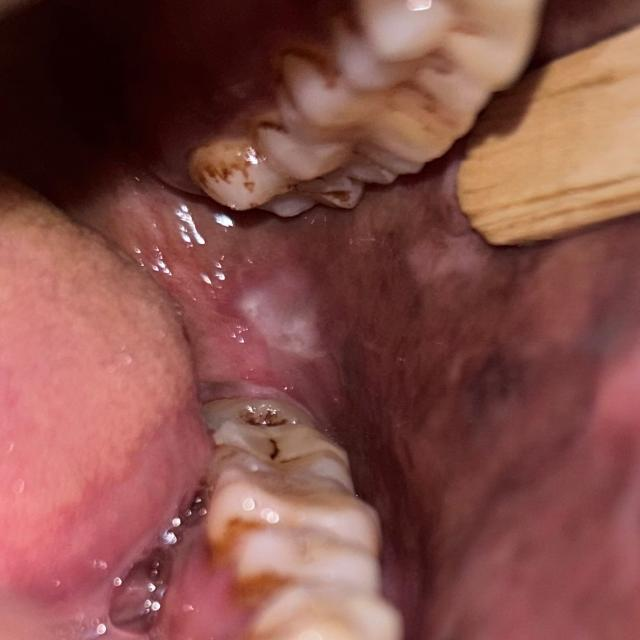leukoplakia-detection: (78, 177, 564, 543)
processing_area: (1, 166, 639, 640)
